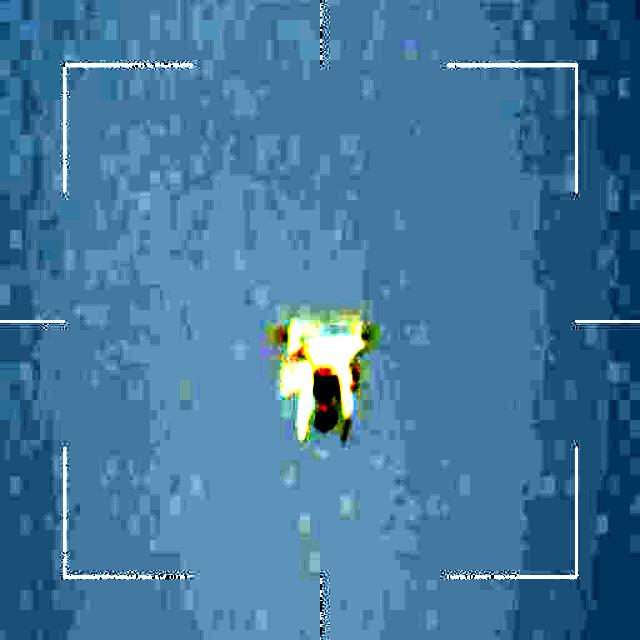bird: (270, 316, 376, 451)
